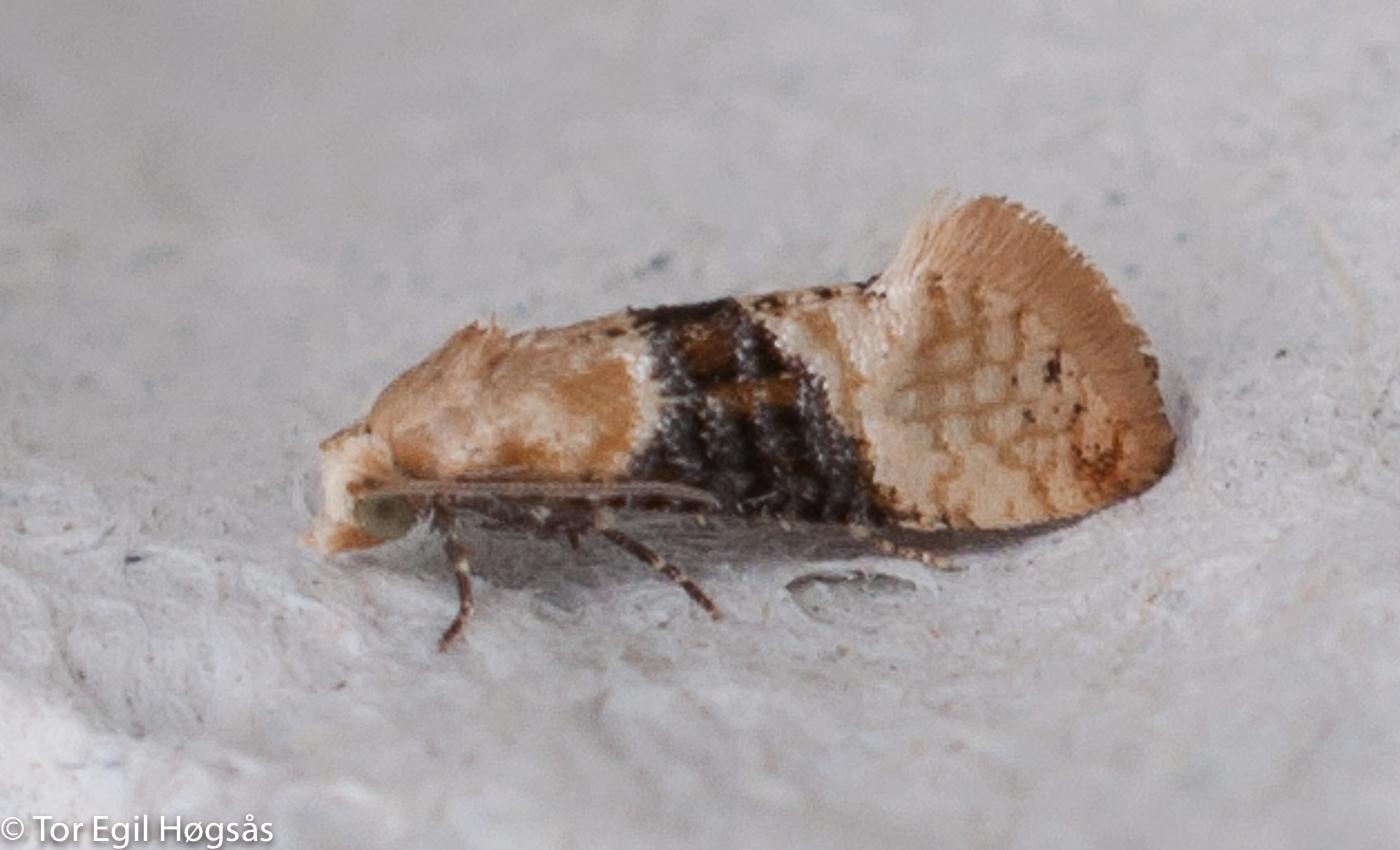Eupoecilia Ambiguella: (302, 185, 1184, 655)
